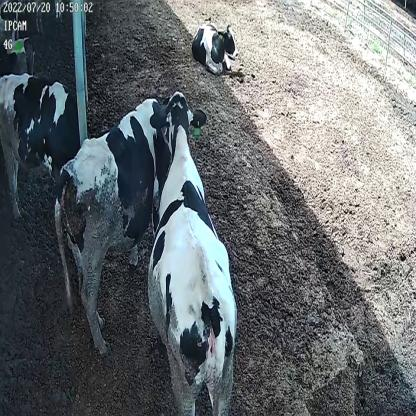cow: (51, 92, 176, 356), (146, 92, 239, 406), (0, 66, 83, 214), (191, 15, 240, 76)
